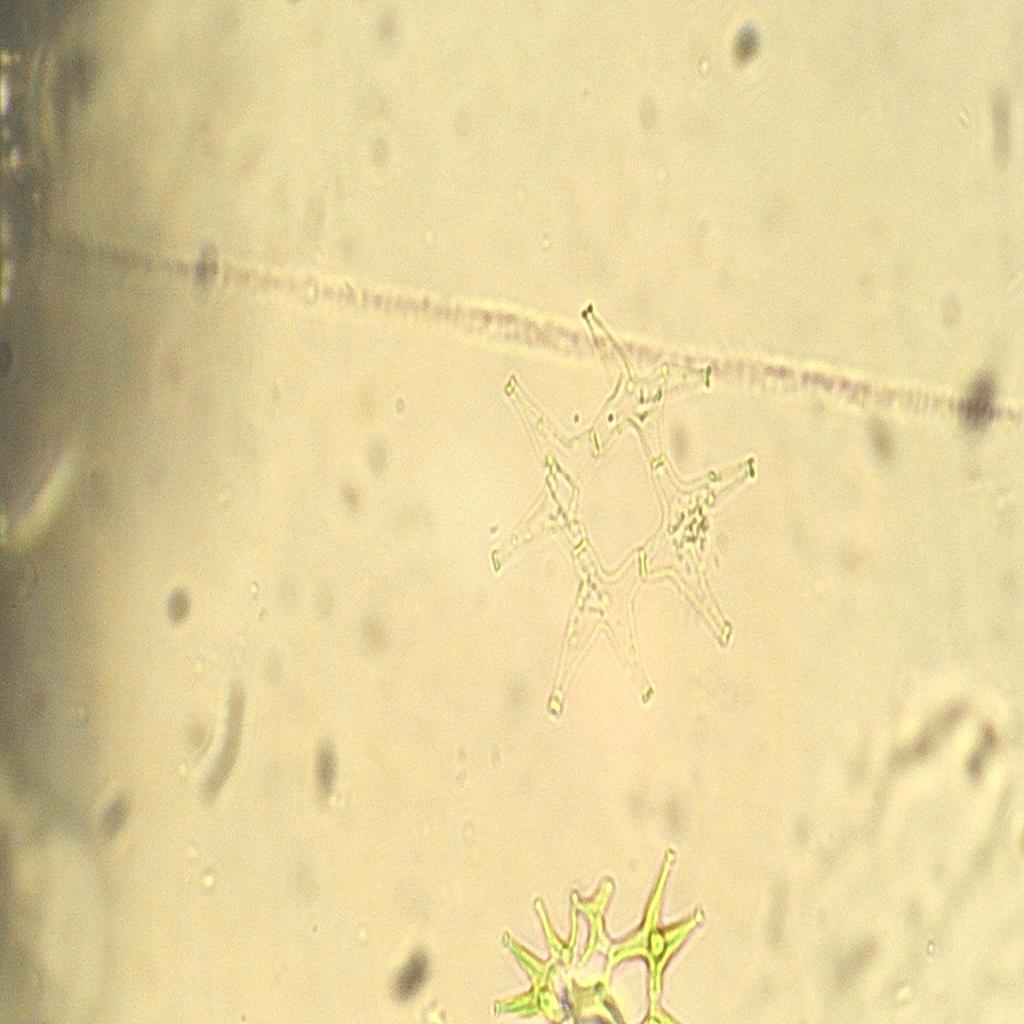Pediastrum_75TH: (477, 273, 773, 764)
